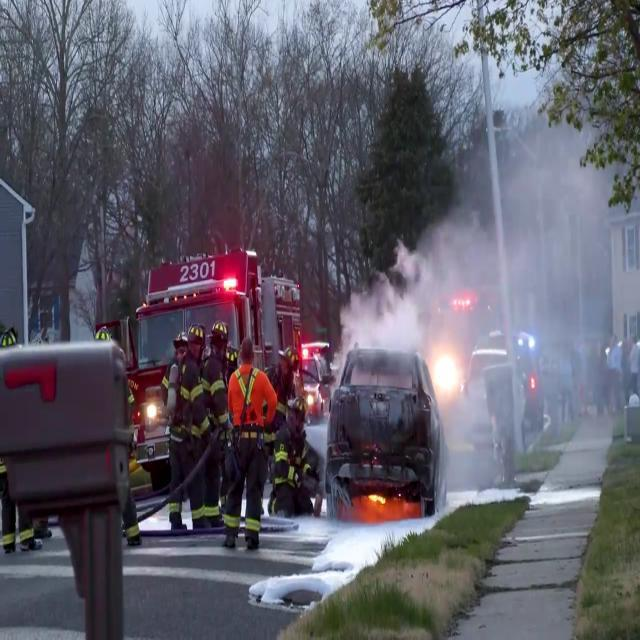Fire: (364, 484, 390, 520)
Smoke: (342, 32, 640, 364)
